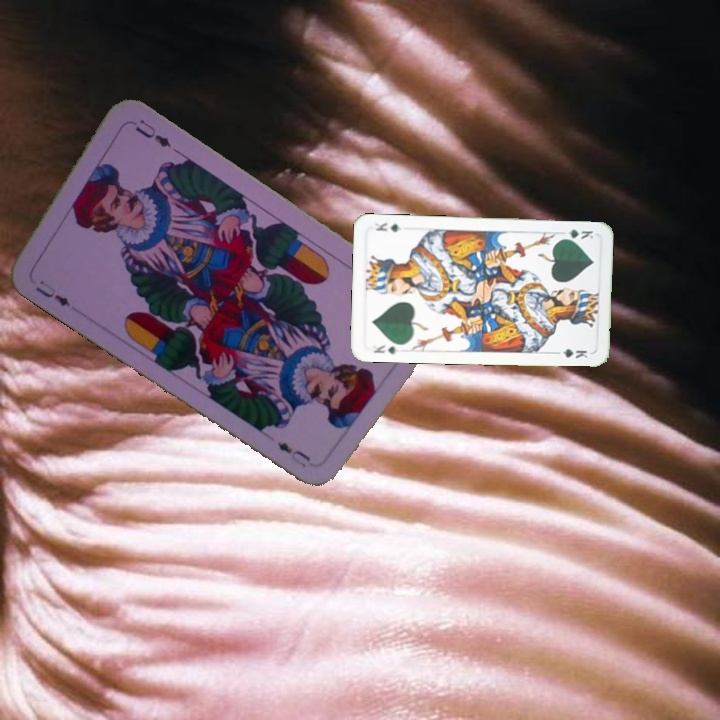EU: (31, 282, 73, 310)
GK: (556, 225, 596, 242), (370, 341, 401, 357)
